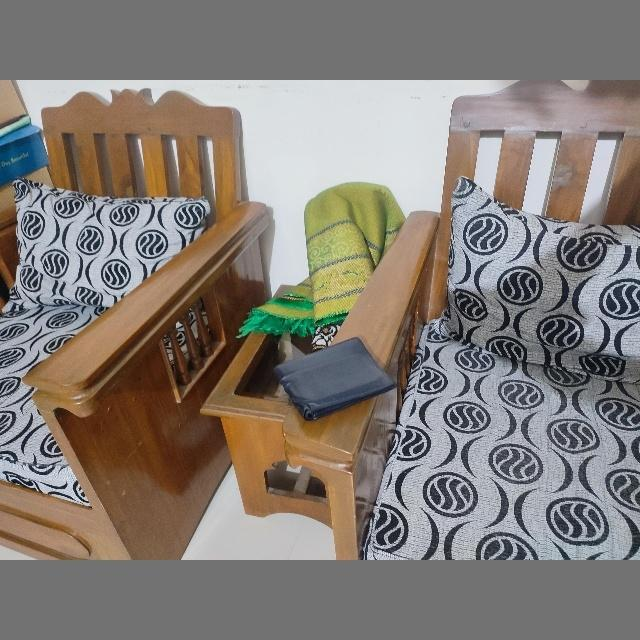Wallet: (276, 338, 396, 420)
